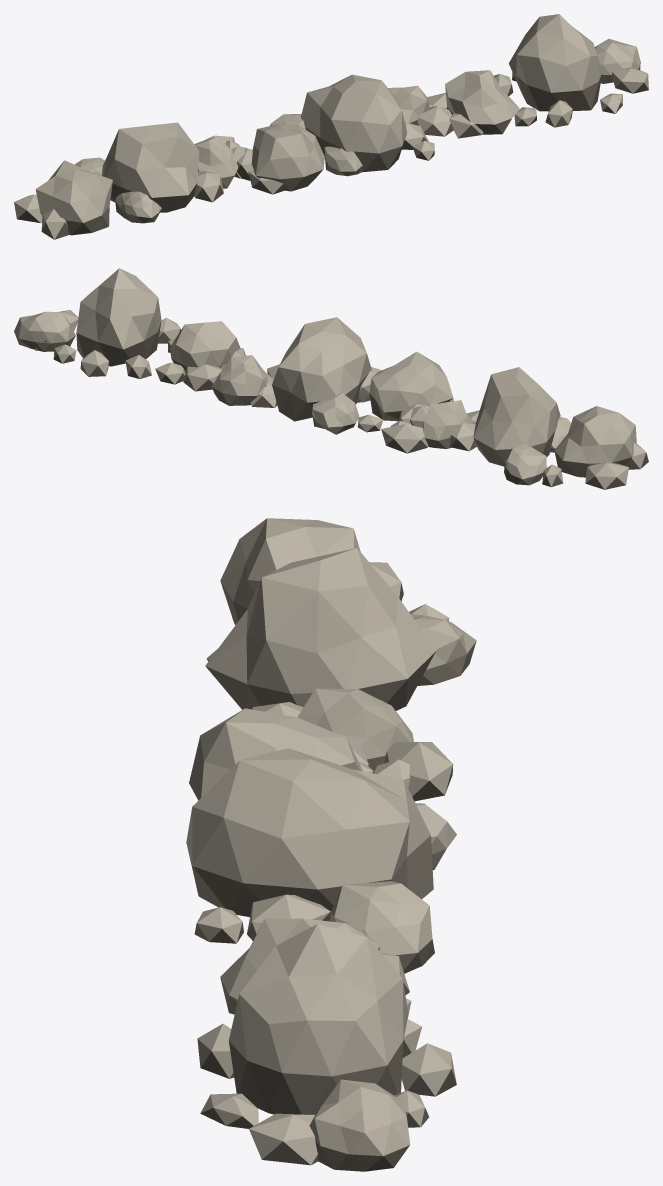
The model's file is stone_hazard_three_lane_A.glb.
3 views of the same model, one above another, from view 1: azimuth 30°, elevation 25°; view 2: azimuth 150°, elevation 25°; view 3: azimuth 270°, elevation 25° (orthographic). The views are drawn at different scales.
Visible parts, largest first — view 1: stone_hazard_three_lane_A; view 2: stone_hazard_three_lane_A; view 3: stone_hazard_three_lane_A.
Boxes of the visible parts, box(x1,y1,x2,y2) form: stone_hazard_three_lane_A: box(14, 14, 648, 239); stone_hazard_three_lane_A: box(14, 268, 648, 489); stone_hazard_three_lane_A: box(186, 518, 476, 1171).
Size of the model in its own units: 7.26 by 0.9418 by 1.5.
